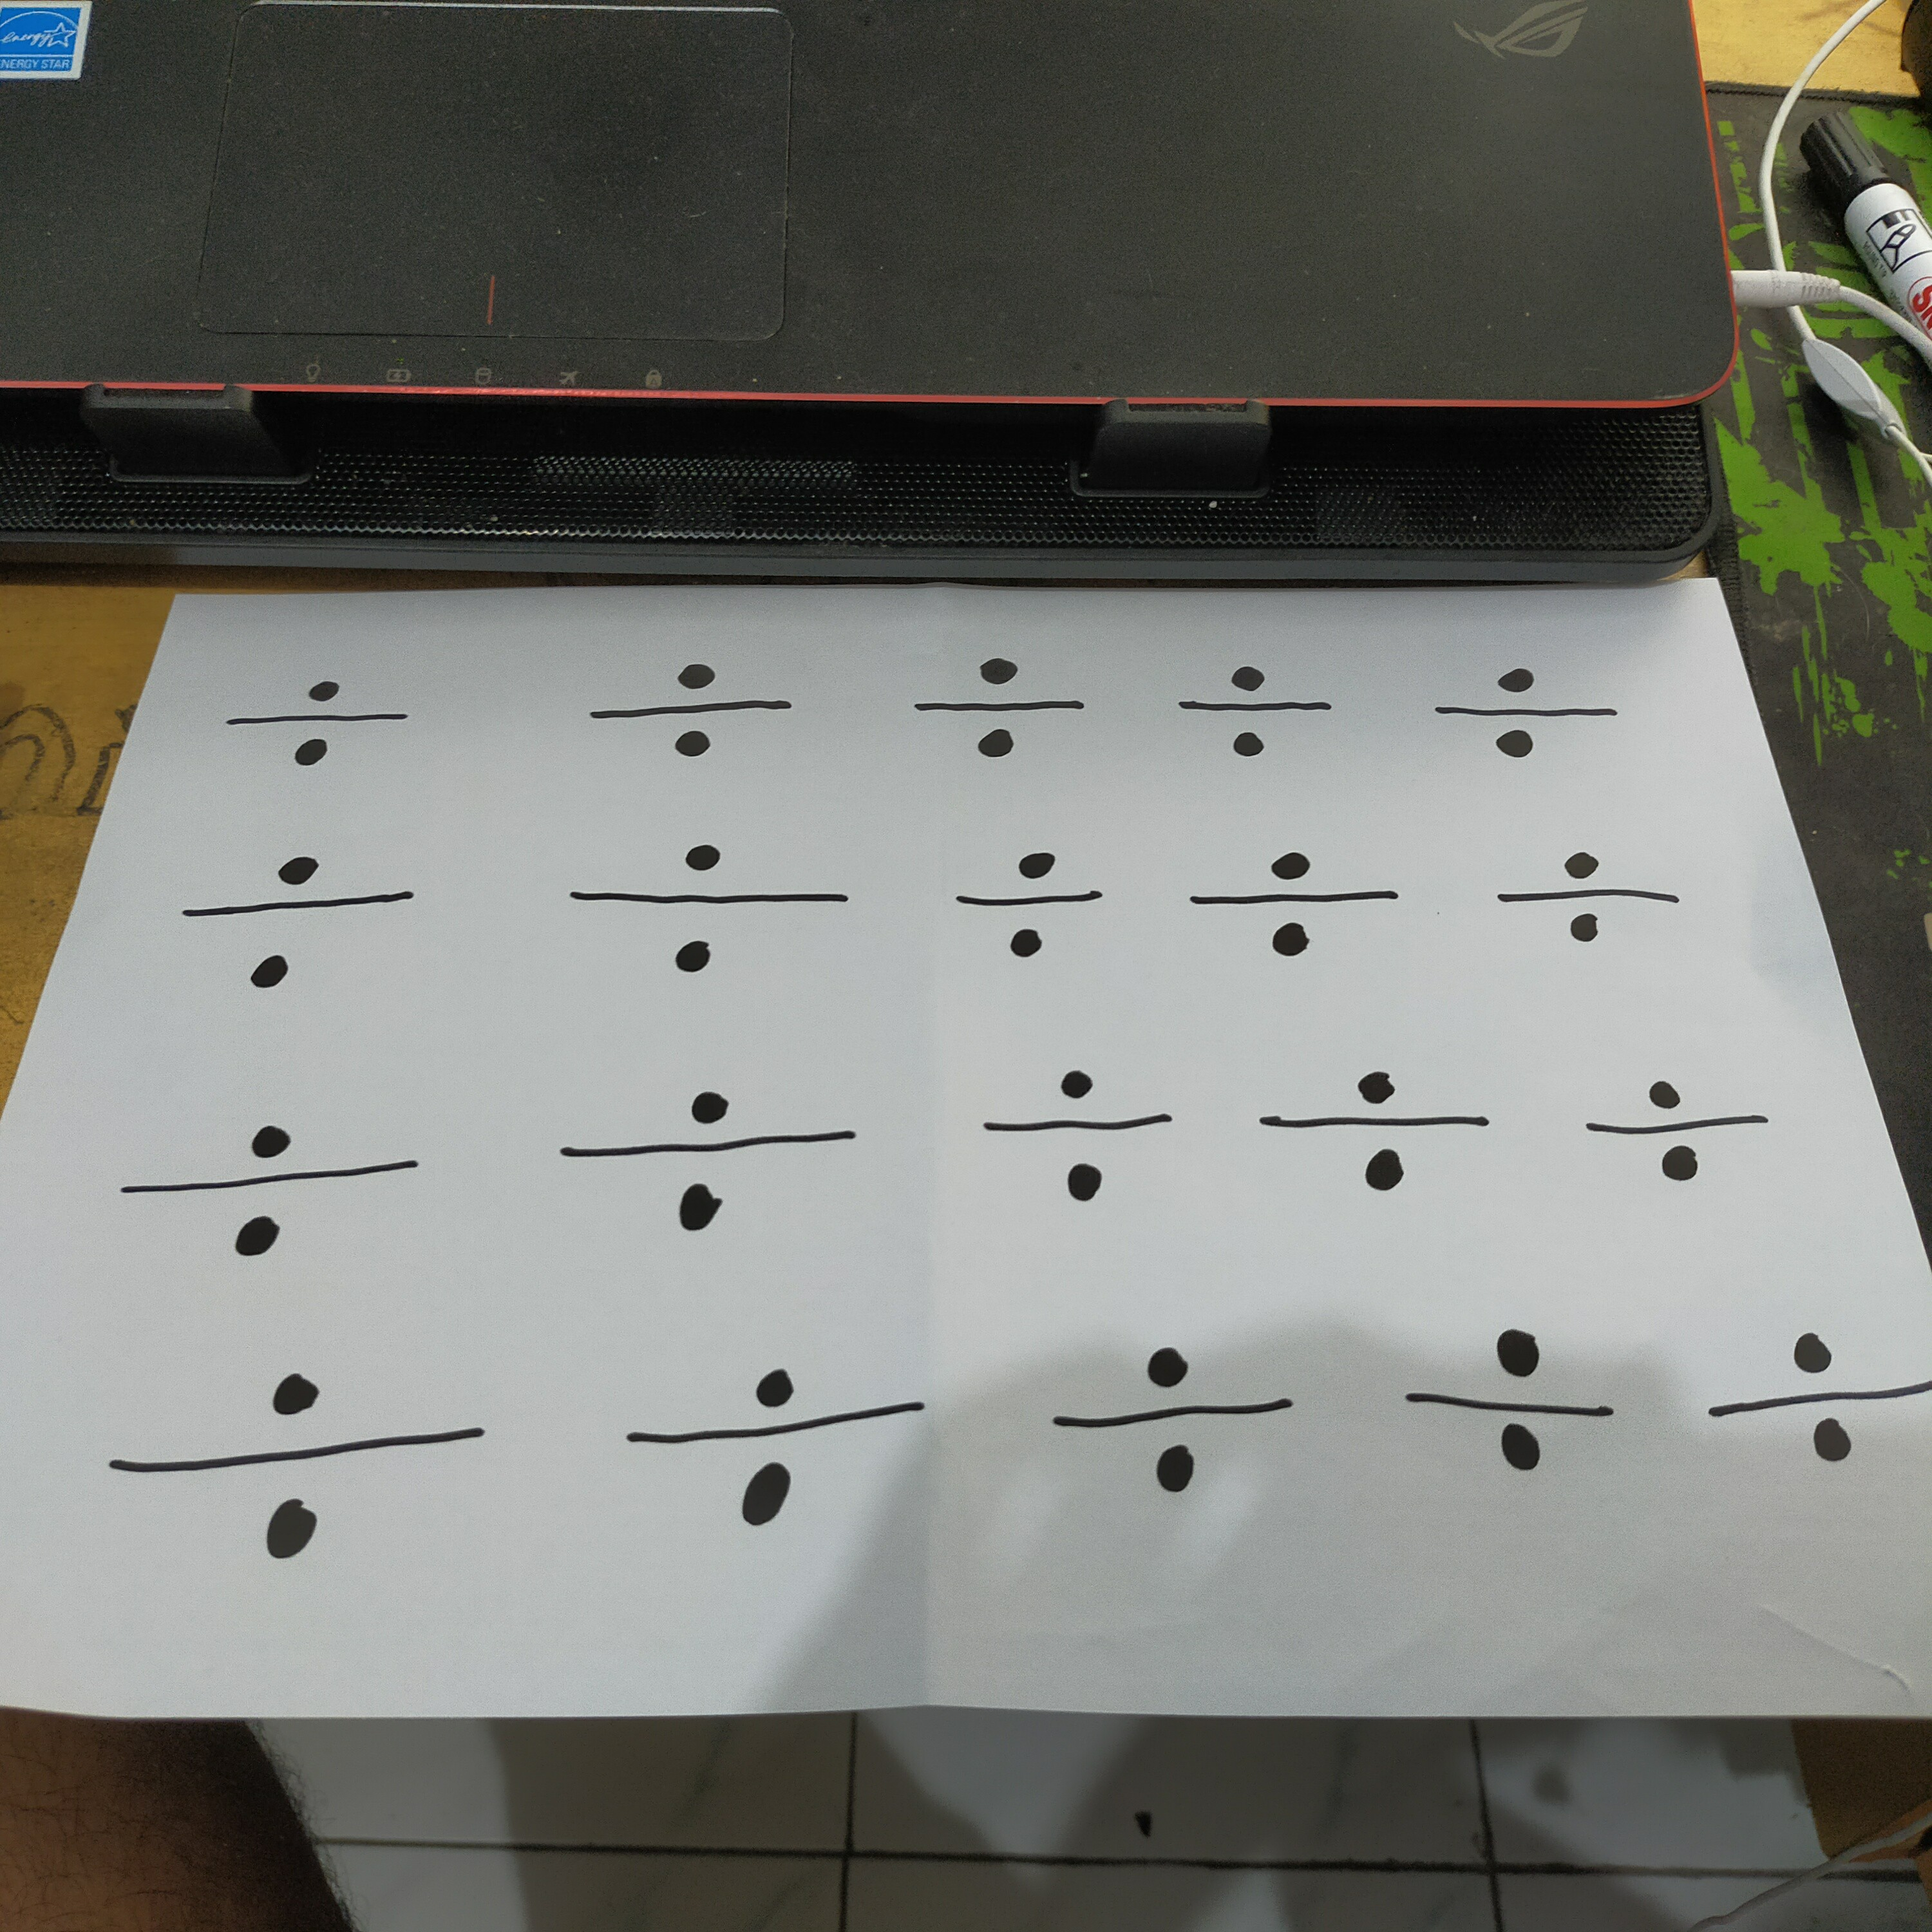div: (103, 1350, 522, 1573), (531, 1090, 889, 1260), (612, 1352, 946, 1528), (90, 1110, 448, 1262), (556, 827, 864, 993), (1036, 1331, 1309, 1502), (169, 837, 435, 1009), (1391, 1321, 1633, 1492), (1245, 1063, 1518, 1200), (1696, 1323, 1932, 1474), (1177, 842, 1422, 977), (961, 1065, 1180, 1213), (1561, 1069, 1793, 1204), (587, 643, 813, 776), (901, 641, 1102, 780), (1420, 657, 1643, 774), (1482, 838, 1701, 952), (944, 833, 1120, 971), (214, 671, 417, 788), (1166, 651, 1354, 772)
